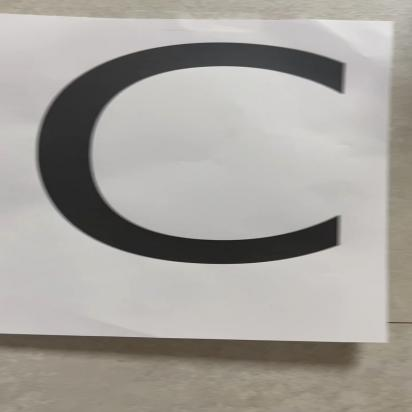seat: (11, 19, 378, 338)
